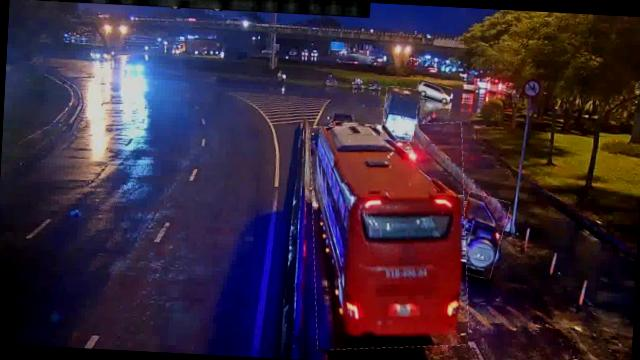Bus: (303, 118, 475, 354)
Car: (452, 192, 507, 278), (414, 80, 452, 103)
Truck: (381, 86, 418, 142)
